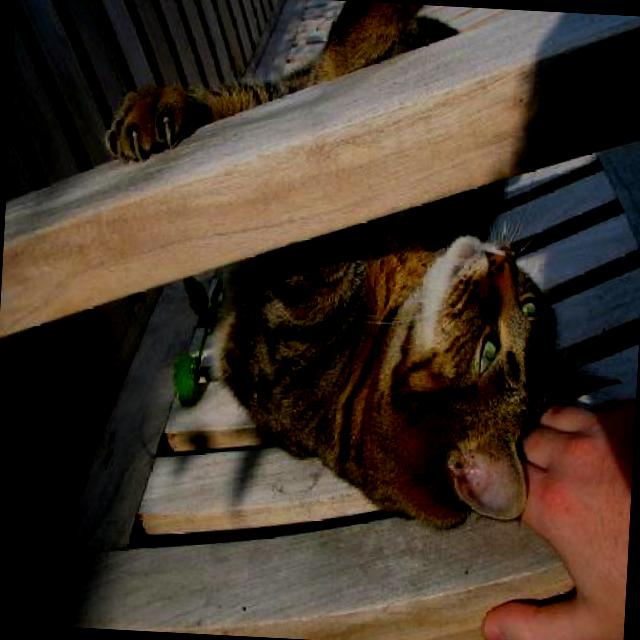Person: (480, 392, 634, 640)
